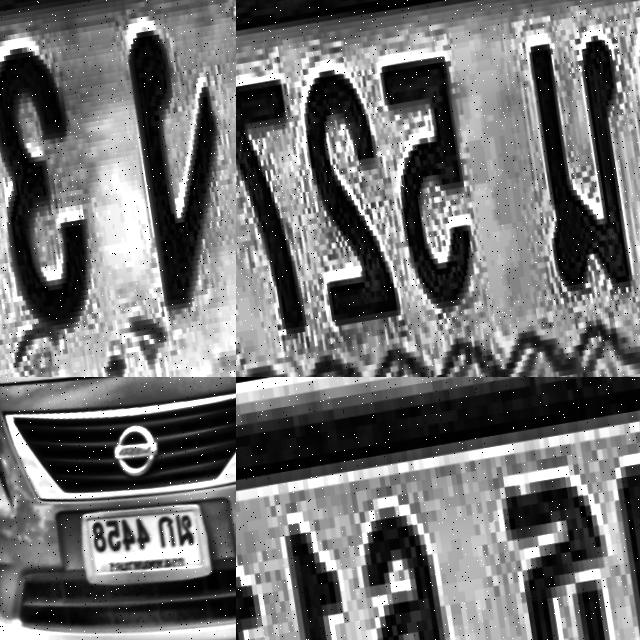license-plate: (236, 0, 640, 377), (236, 377, 640, 640), (0, 0, 236, 377), (75, 492, 216, 601)
